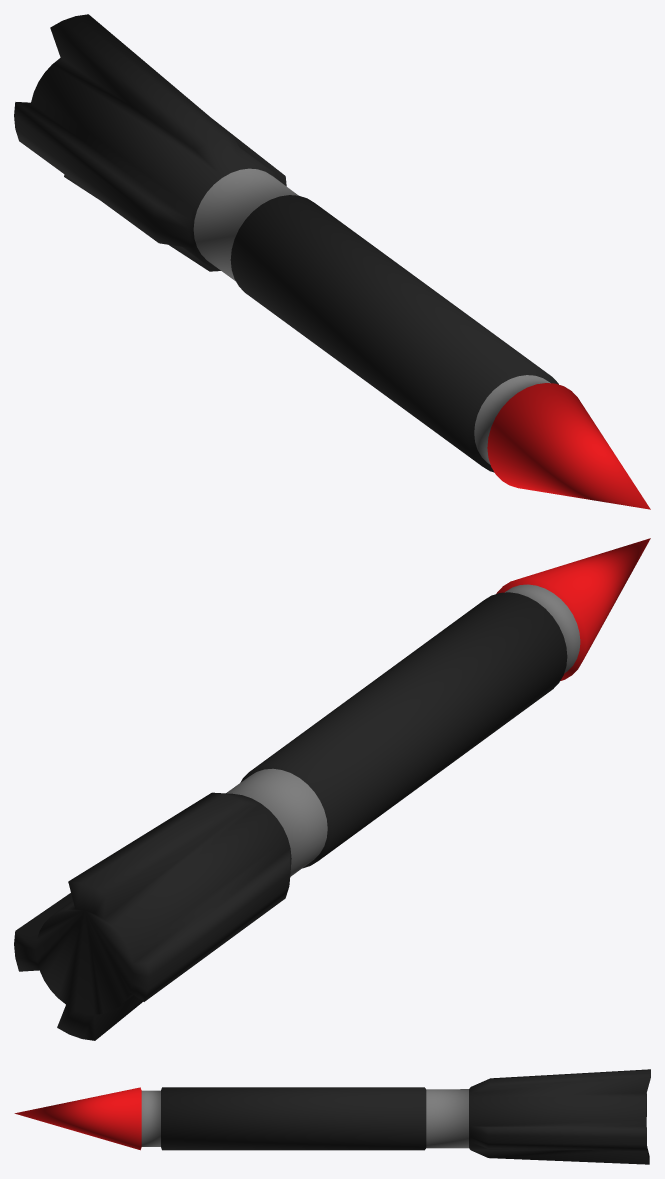
File: Missile.fbx
3 views of the same model, one above another, from view 1: azimuth 30°, elevation 25°; view 2: azimuth 150°, elevation 25°; view 3: azimuth 270°, elevation 25° (orthographic). The views are drawn at different scales.
Visible parts, largest first — view 1: Tank; view 2: Tank; view 3: Tank.
Boxes of the visible parts, x1,y1,x2,y2 form: Tank: (14, 14, 650, 509); Tank: (14, 538, 650, 1040); Tank: (14, 1069, 650, 1164).
Bounding box in the file's own units: 0.2337 × 1.69 × 0.256.
